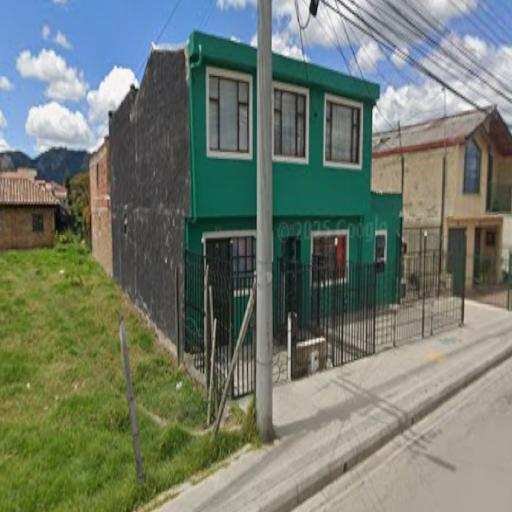poste: (252, 7, 275, 440)
